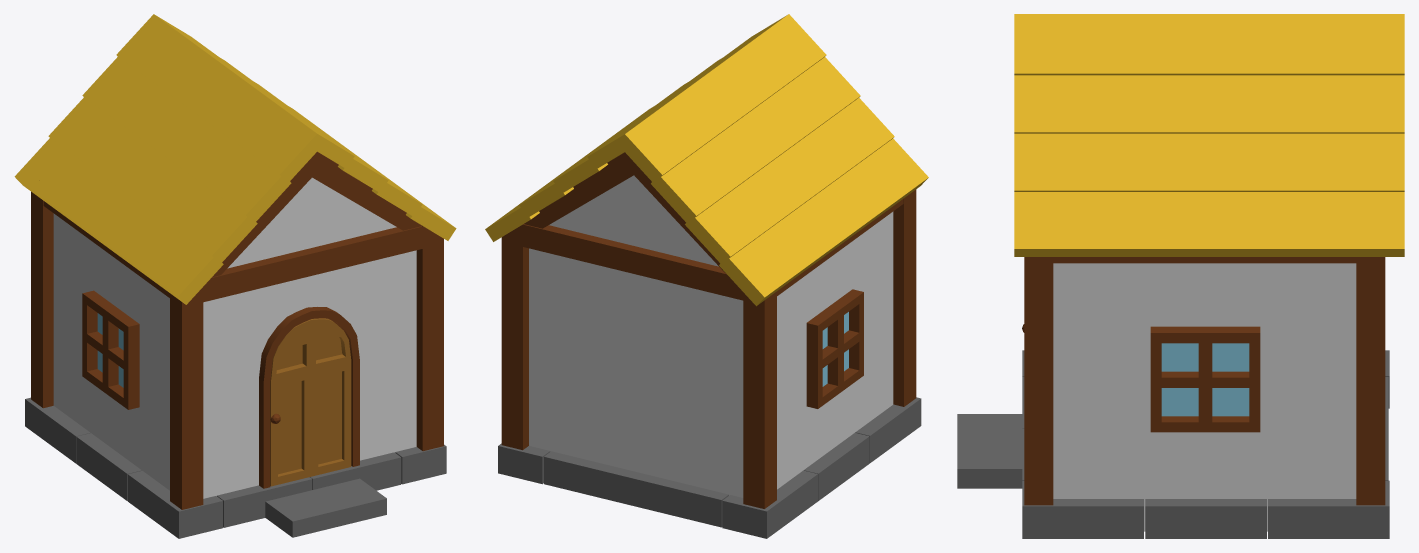
Rendered from building.glb.
3 renders of one model, left to right at view 1: azimuth 30°, elevation 25°; view 2: azimuth 150°, elevation 25°; view 3: azimuth 270°, elevation 25°, orthographic. The views are drawn at different scales.
Parts seen in each view (by area): view 1: Cube.016, Cube, Cube.012, Door, Cube.013, Window, Cube.011, Cube.015, Cube.001, Cube.002, Cube.008, Cube.003 (+3 smaller); view 2: Cube, Cube.016, Cube.012, Cube.013, Window, Cube.003, Cube.010, Cube.009, Cube.015, Cube.002, Cube.001, Cube.006 (+1 smaller); view 3: Cube.016, Cube, Cube.012, Window, Cube.011, Cube.005, Cube.006, Cube.004, Cube.014.
Boxes of the visible parts, left/top/right/bottom form: Cube.016: left=14, top=14, right=456, bottom=304; Cube: left=53, top=177, right=416, bottom=498; Cube.012: left=31, top=191, right=443, bottom=509; Door: left=259, top=307, right=359, bottom=488; Cube.013: left=203, top=226, right=422, bottom=302; Window: left=82, top=290, right=139, bottom=409; Cube.011: left=265, top=478, right=386, bottom=537; Cube.015: left=212, top=151, right=421, bottom=277; Cube.001: left=128, top=471, right=222, bottom=538; Cube.002: left=76, top=433, right=141, bottom=501; Cube.008: left=217, top=477, right=312, bottom=527; Cube.003: left=25, top=397, right=90, bottom=463; Cube: left=529, top=175, right=893, bottom=497; Cube.016: left=485, top=14, right=928, bottom=306; Cube.012: left=501, top=189, right=916, bottom=508; Cube.013: left=523, top=224, right=743, bottom=300; Window: left=806, top=289, right=863, bottom=408; Cube.003: left=722, top=470, right=817, bottom=538; Cube.010: left=632, top=473, right=728, bottom=527; Cube.009: left=544, top=451, right=639, bottom=505; Cube.015: left=524, top=152, right=725, bottom=273; Cube.002: left=803, top=433, right=869, bottom=501; Cube.001: left=855, top=397, right=921, bottom=462; Cube.006: left=498, top=443, right=550, bottom=484; Cube.016: left=1014, top=14, right=1404, bottom=256; Cube: left=1053, top=263, right=1356, bottom=531; Cube.012: left=1024, top=257, right=1385, bottom=505; Window: left=1150, top=326, right=1260, bottom=432; Cube.011: left=957, top=414, right=1022, bottom=488; Cube.005: left=1145, top=499, right=1266, bottom=538; Cube.006: left=1268, top=480, right=1389, bottom=538; Cube.004: left=1022, top=480, right=1143, bottom=538; Cube.014: left=1053, top=257, right=1356, bottom=263.
Bounding box in the file's own units: 14.16 × 18.21 × 16.5.
